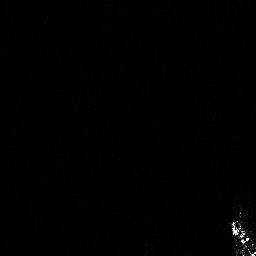ship: (226, 208, 256, 256)
